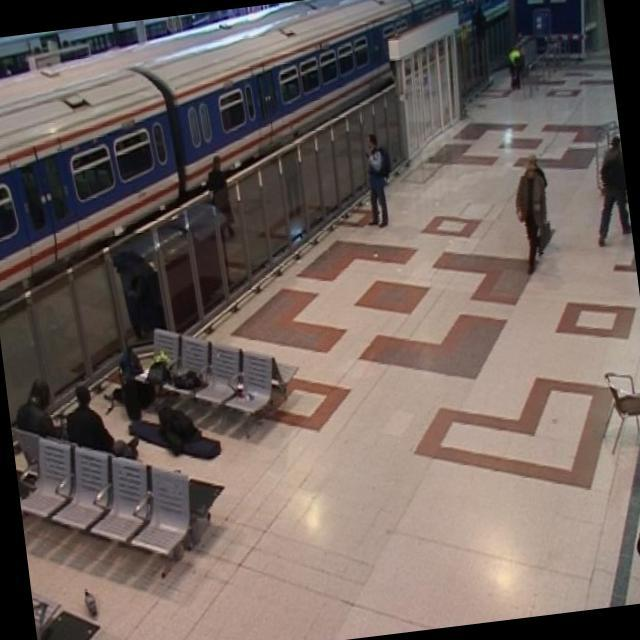person: (504, 146, 562, 278), (580, 132, 634, 250), (357, 129, 402, 233)
